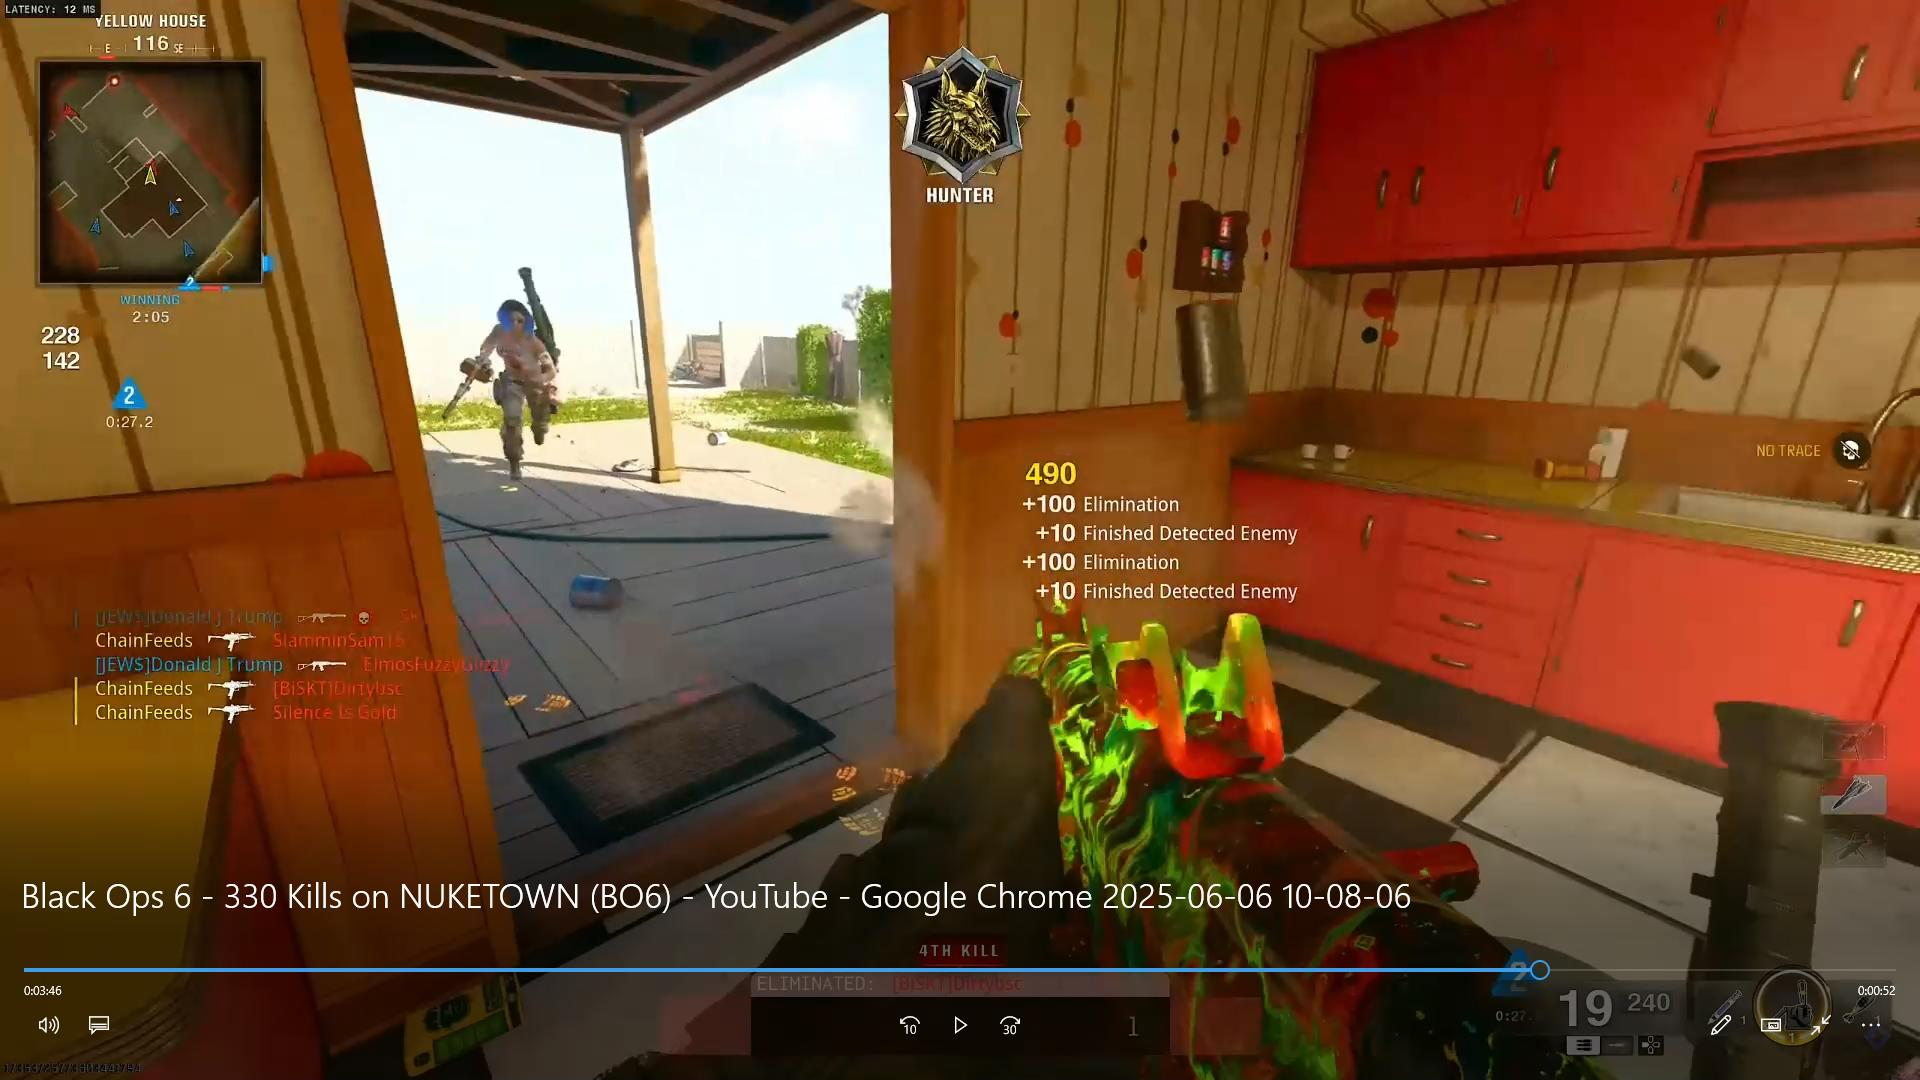Enemy: (448, 277, 592, 493)
